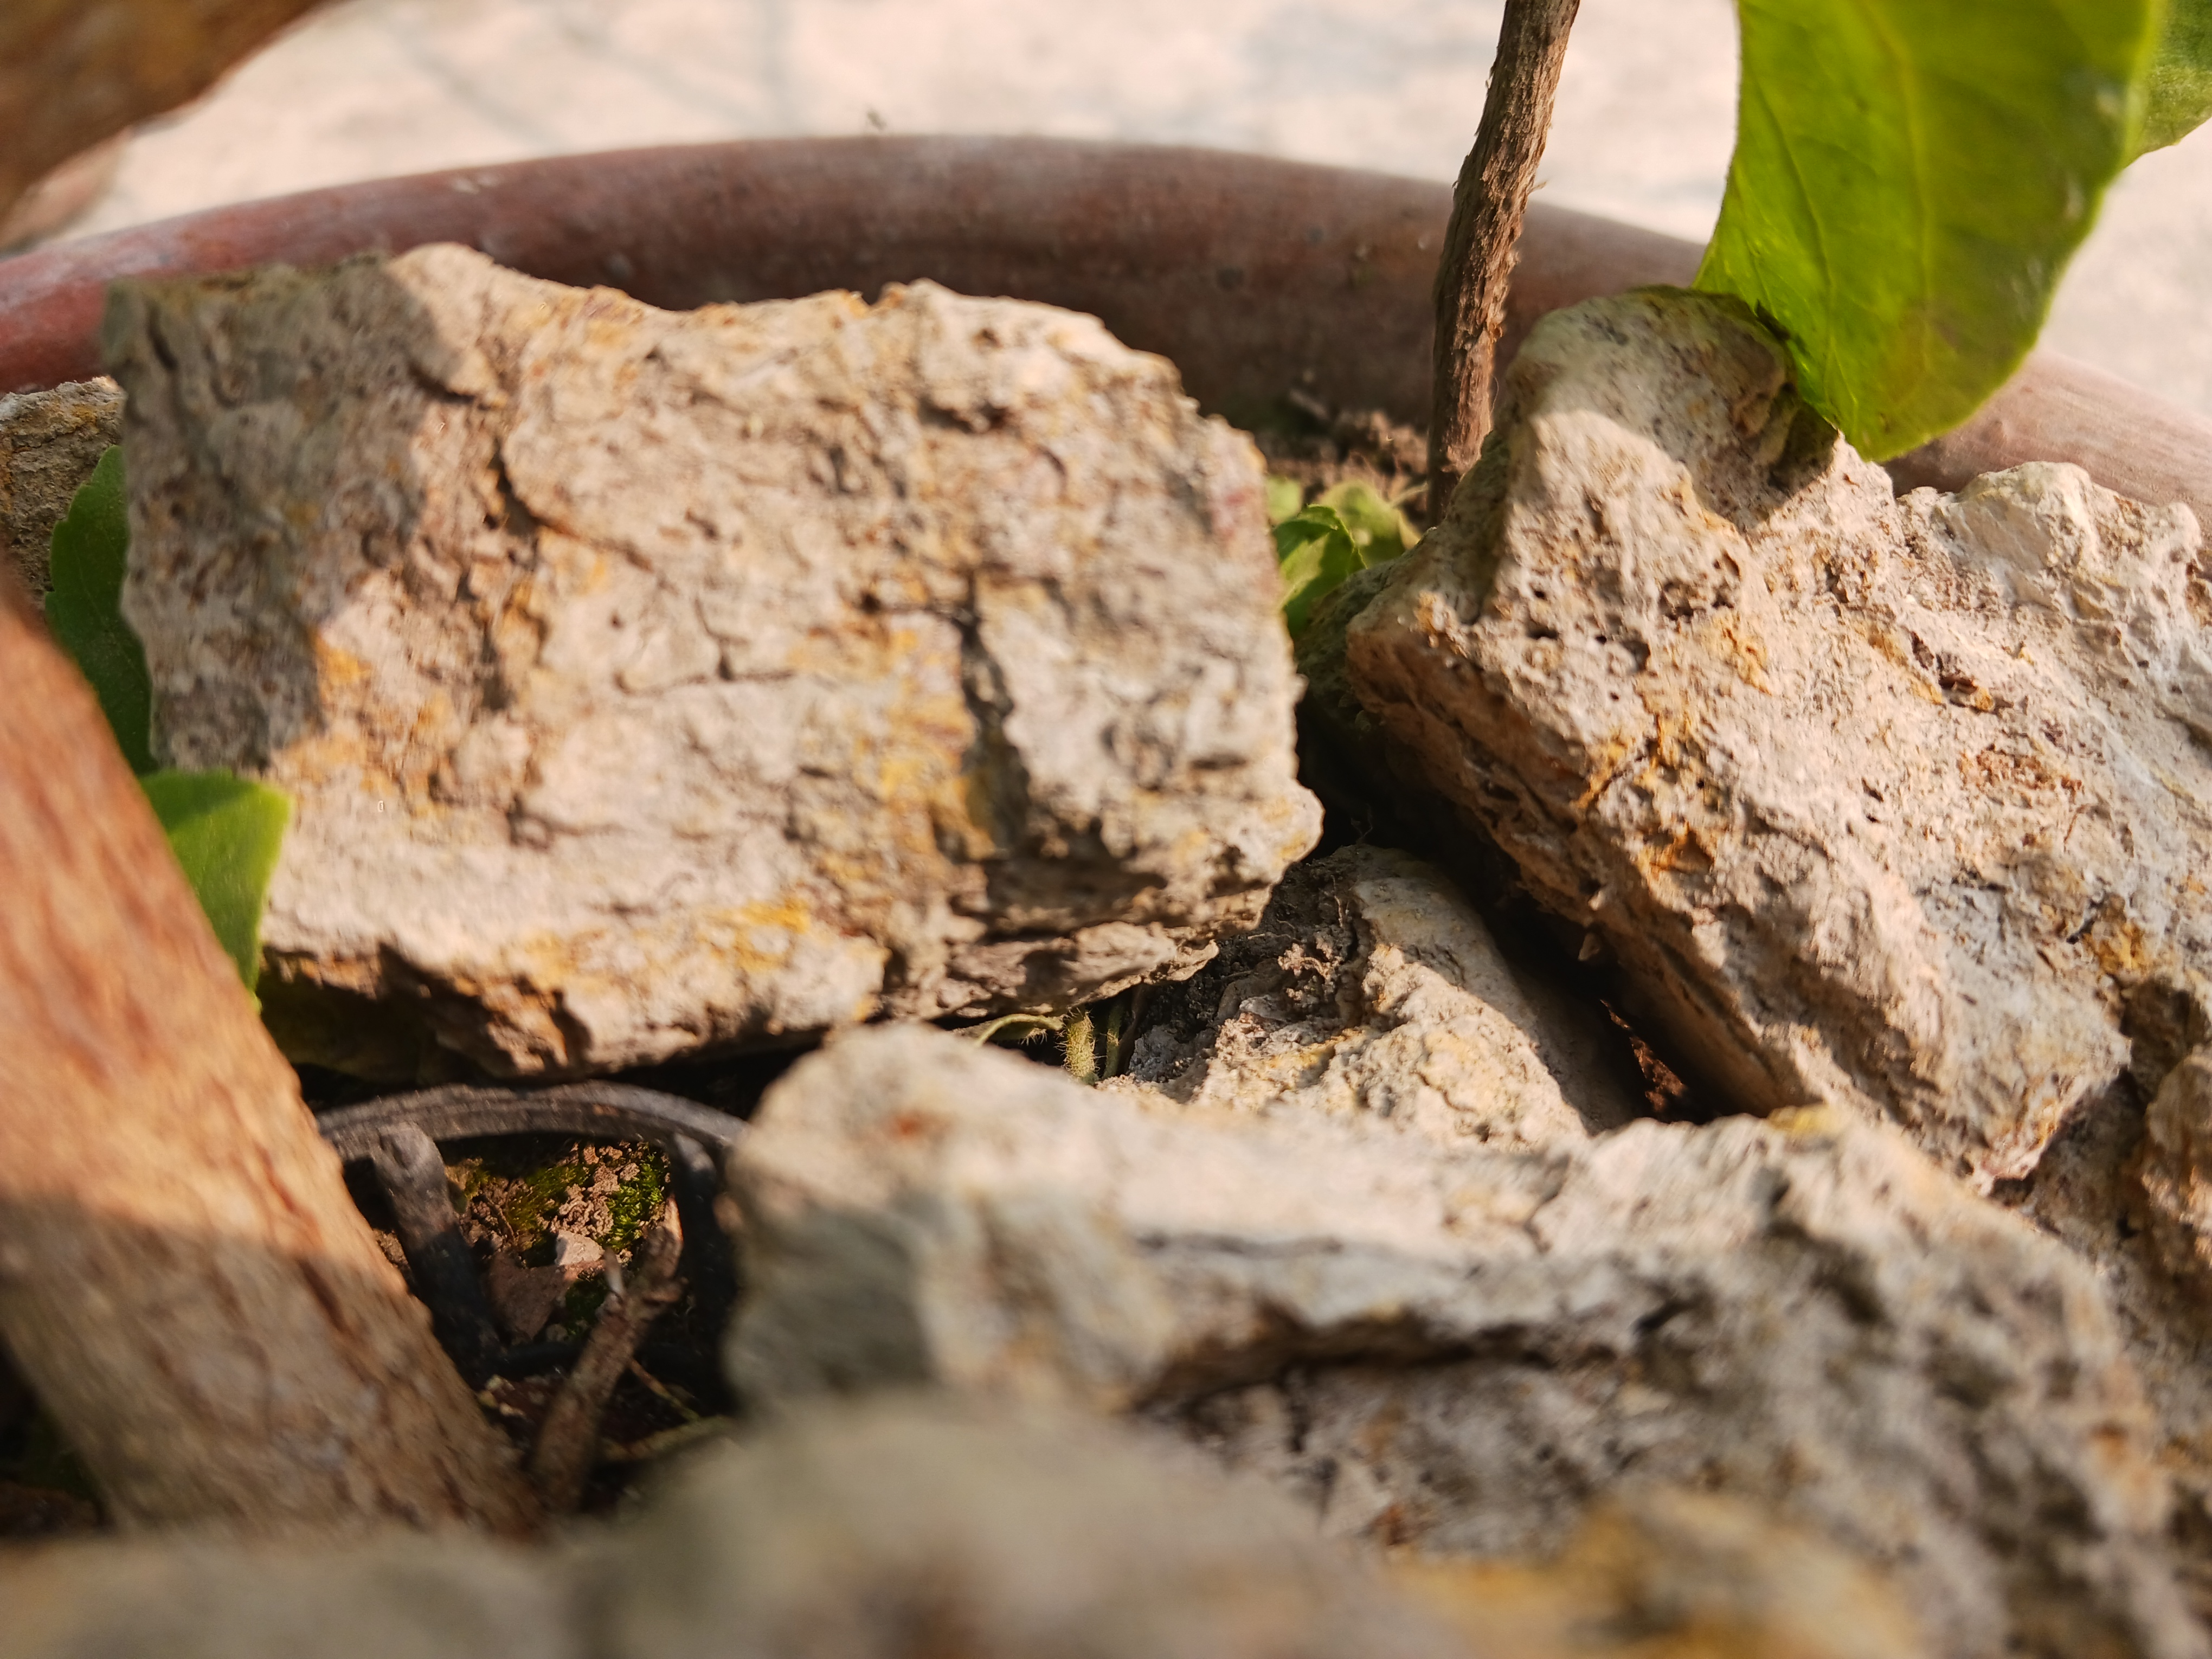Stone: (225, 272, 1256, 897), (857, 1084, 1954, 1659), (1447, 444, 2109, 1136)
